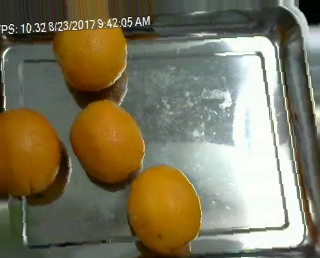Orange: (127, 165, 203, 254), (69, 99, 146, 185), (1, 106, 61, 198)
